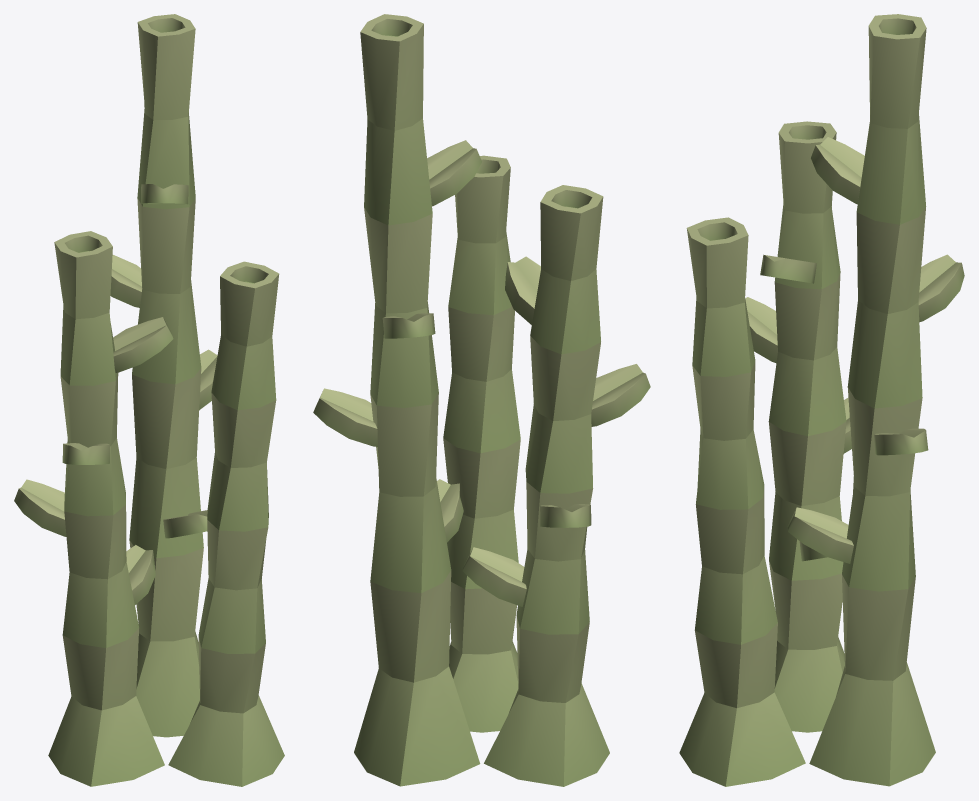
The model's file is bamboo.glb.
The picture shows the model from 3 angles, left to right: view 1: azimuth 30°, elevation 25°; view 2: azimuth 150°, elevation 25°; view 3: azimuth 270°, elevation 25°; orthographic projection. The views are drawn at different scales.
Parts seen in each view (by area): view 1: bamboo; view 2: bamboo; view 3: bamboo.
Boxes of the visible parts, x1=… form: bamboo: x1=14, y1=14, x2=284, y2=786; bamboo: x1=313, y1=14, x2=650, y2=786; bamboo: x1=679, y1=14, x2=964, y2=786.
Bounding box in the file's own units: 0.2984 × 0.8447 × 0.2948.
